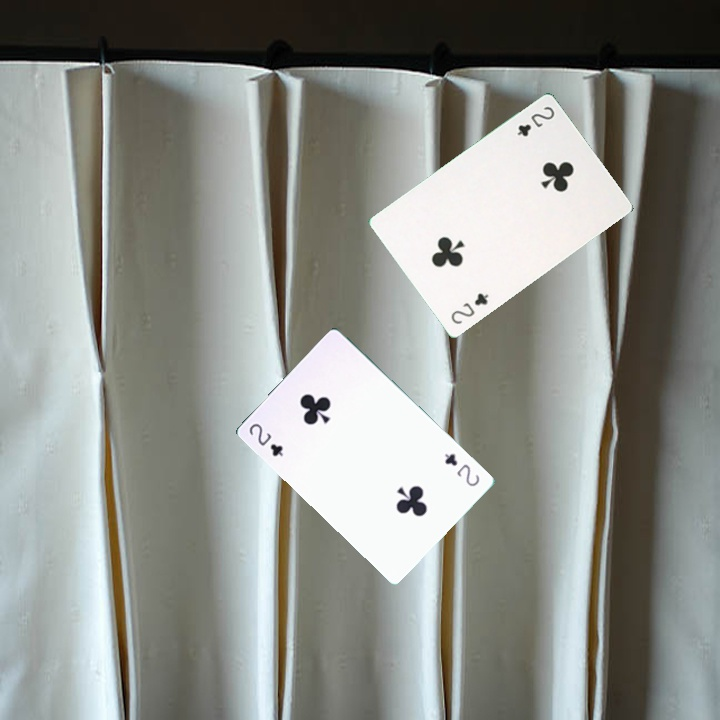2c: (447, 289, 491, 327), (441, 449, 482, 489), (245, 419, 286, 459), (513, 102, 557, 139)
